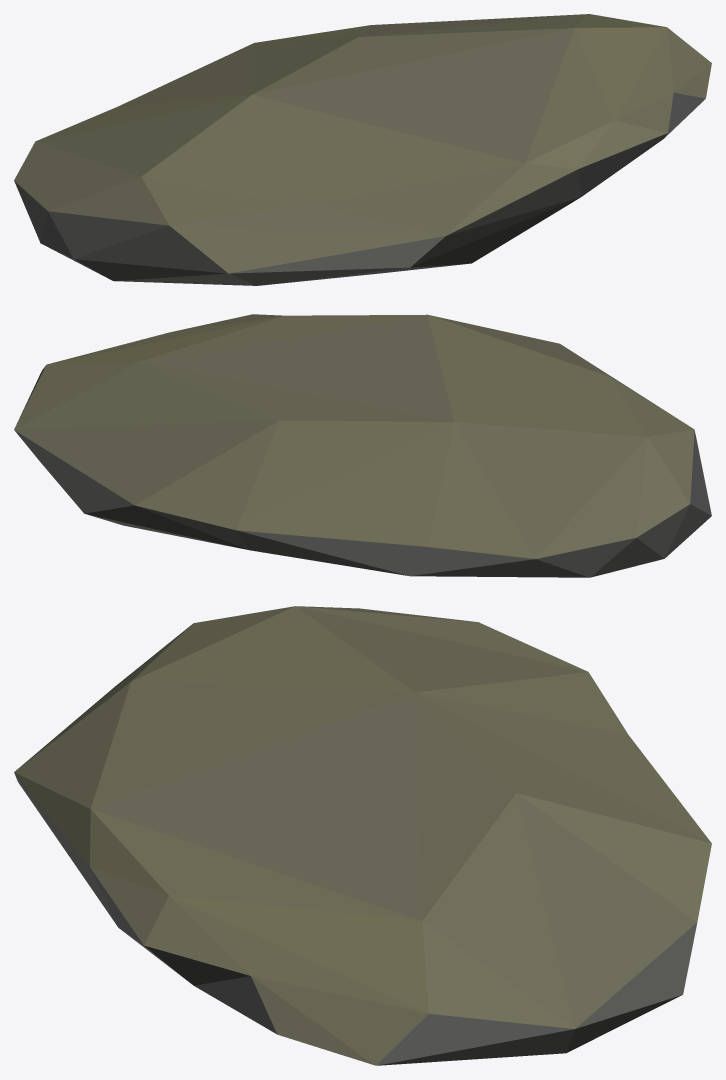
The model's file is rock-flat.glb.
The picture shows the model from 3 angles, top to bottom: view 1: azimuth 30°, elevation 25°; view 2: azimuth 150°, elevation 25°; view 3: azimuth 270°, elevation 25°; orthographic projection. The views are drawn at different scales.
Parts seen in each view (by area): view 1: rock-flat; view 2: rock-flat; view 3: rock-flat.
Part boxes in pixels (bbox=[...]): rock-flat: bbox=[14, 14, 711, 285]; rock-flat: bbox=[14, 314, 711, 577]; rock-flat: bbox=[14, 606, 711, 1065].
Size of the model in its own units: 1.89 by 0.3677 by 1.29.
